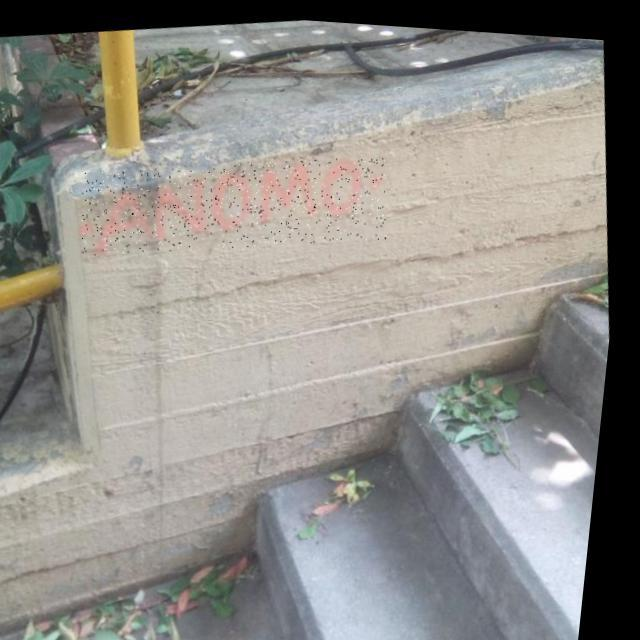-: (77, 134, 398, 270)
